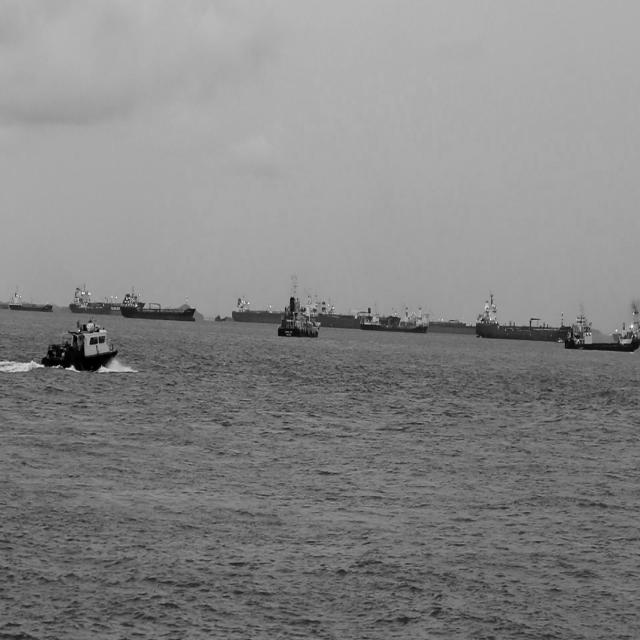boat: (39, 312, 120, 372)
ship: (472, 287, 574, 339), (563, 305, 637, 352), (299, 287, 379, 329), (119, 286, 198, 323), (407, 298, 480, 335), (360, 298, 430, 336), (228, 288, 297, 320), (276, 296, 322, 340), (610, 288, 640, 340), (70, 284, 112, 316), (6, 288, 56, 312), (85, 292, 131, 314), (207, 308, 224, 324)
